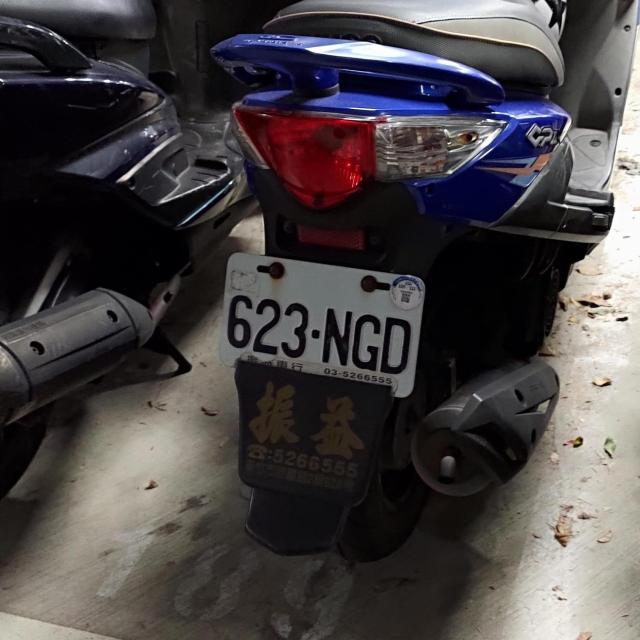W: (216, 251, 429, 394)
